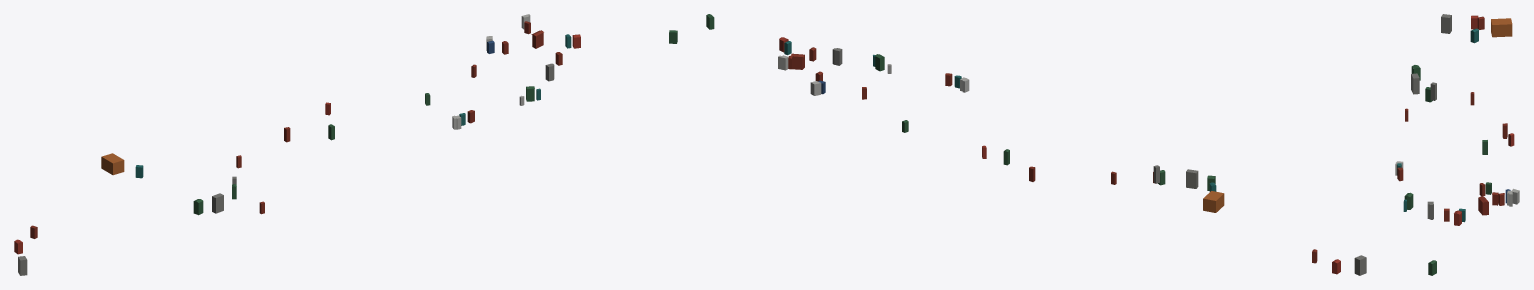
File: near-15-27363-14858.cbbc1014.glb
The picture shows the model from 3 angles, left to right: view 1: azimuth 30°, elevation 25°; view 2: azimuth 150°, elevation 25°; view 3: azimuth 270°, elevation 25°; orthographic projection. The views are drawn at different scales.
Bounding box in the file's own units: 1090 × 167 × 175.
